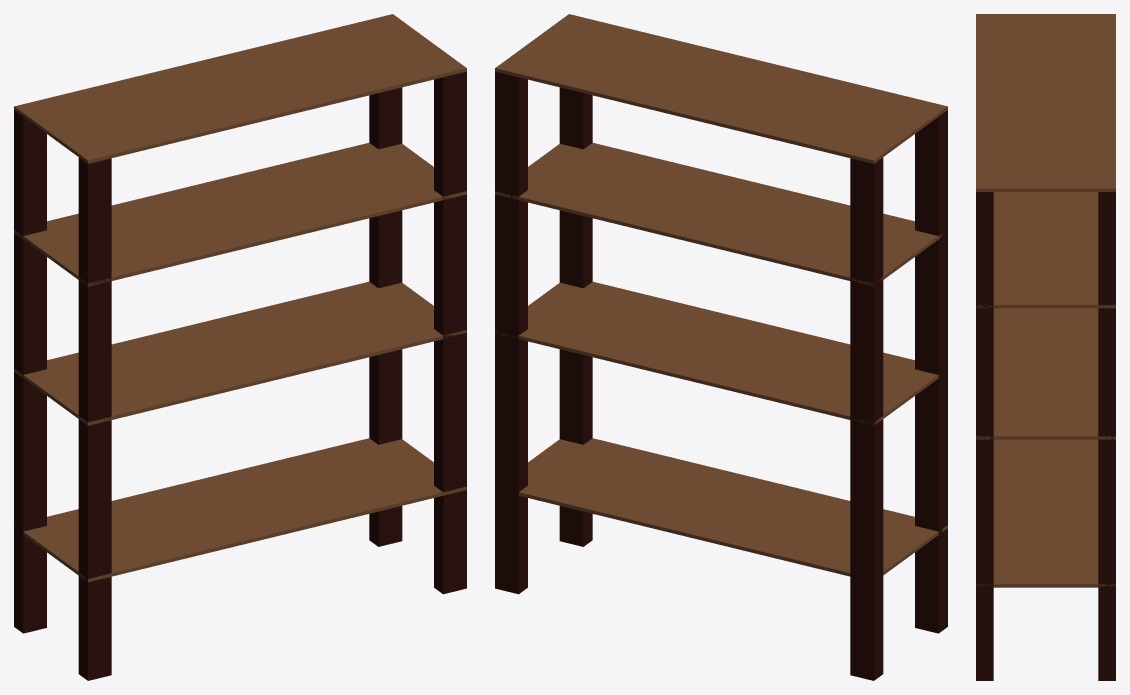
Rendered from SideShelf.fbx.
3 views of the same model, side by side, from view 1: azimuth 30°, elevation 25°; view 2: azimuth 150°, elevation 25°; view 3: azimuth 270°, elevation 25° (orthographic). The views are drawn at different scales.
Parts seen in each view (by area): view 1: Shelf_Tall.001; view 2: Shelf_Tall.001; view 3: Shelf_Tall.001.
Part boxes in pixels (box(x1,y1,x2,y2)): Shelf_Tall.001: box(14, 14, 466, 680); Shelf_Tall.001: box(495, 14, 947, 680); Shelf_Tall.001: box(976, 14, 1115, 680).
Size of the model in its own units: 332 by 436 by 112.
